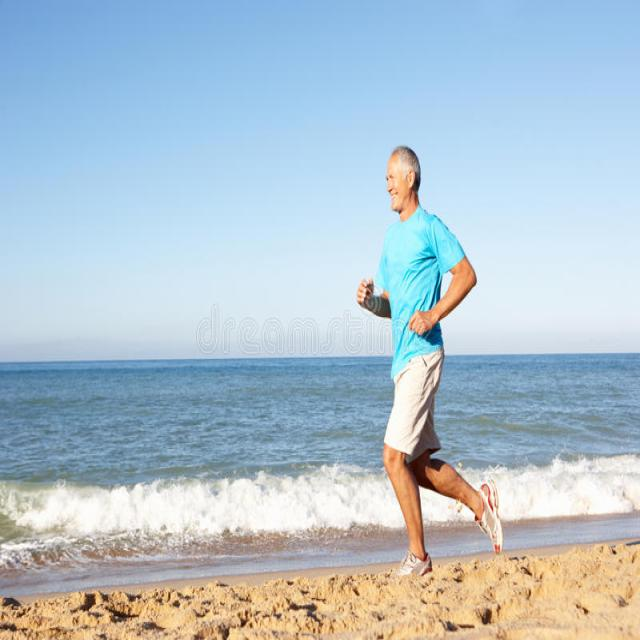running: (354, 140, 506, 581)
